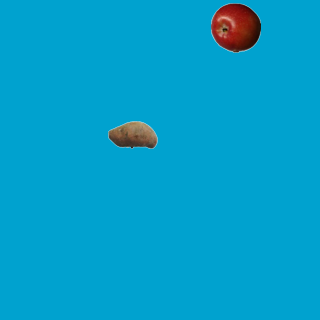Apple Braeburn: (210, 2, 260, 52)
Potato Sweet: (107, 109, 157, 159)
